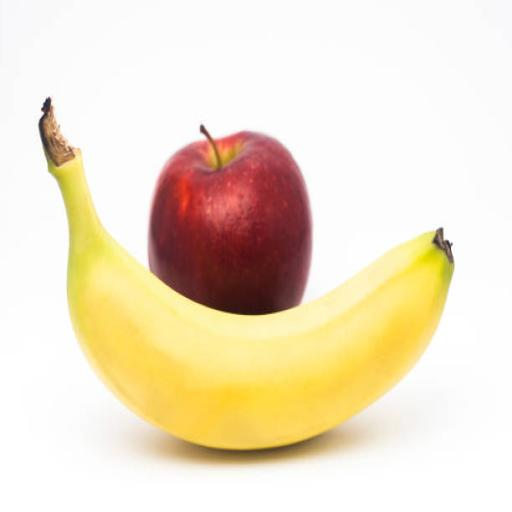apple: (149, 127, 312, 313)
banana: (40, 100, 453, 449)
